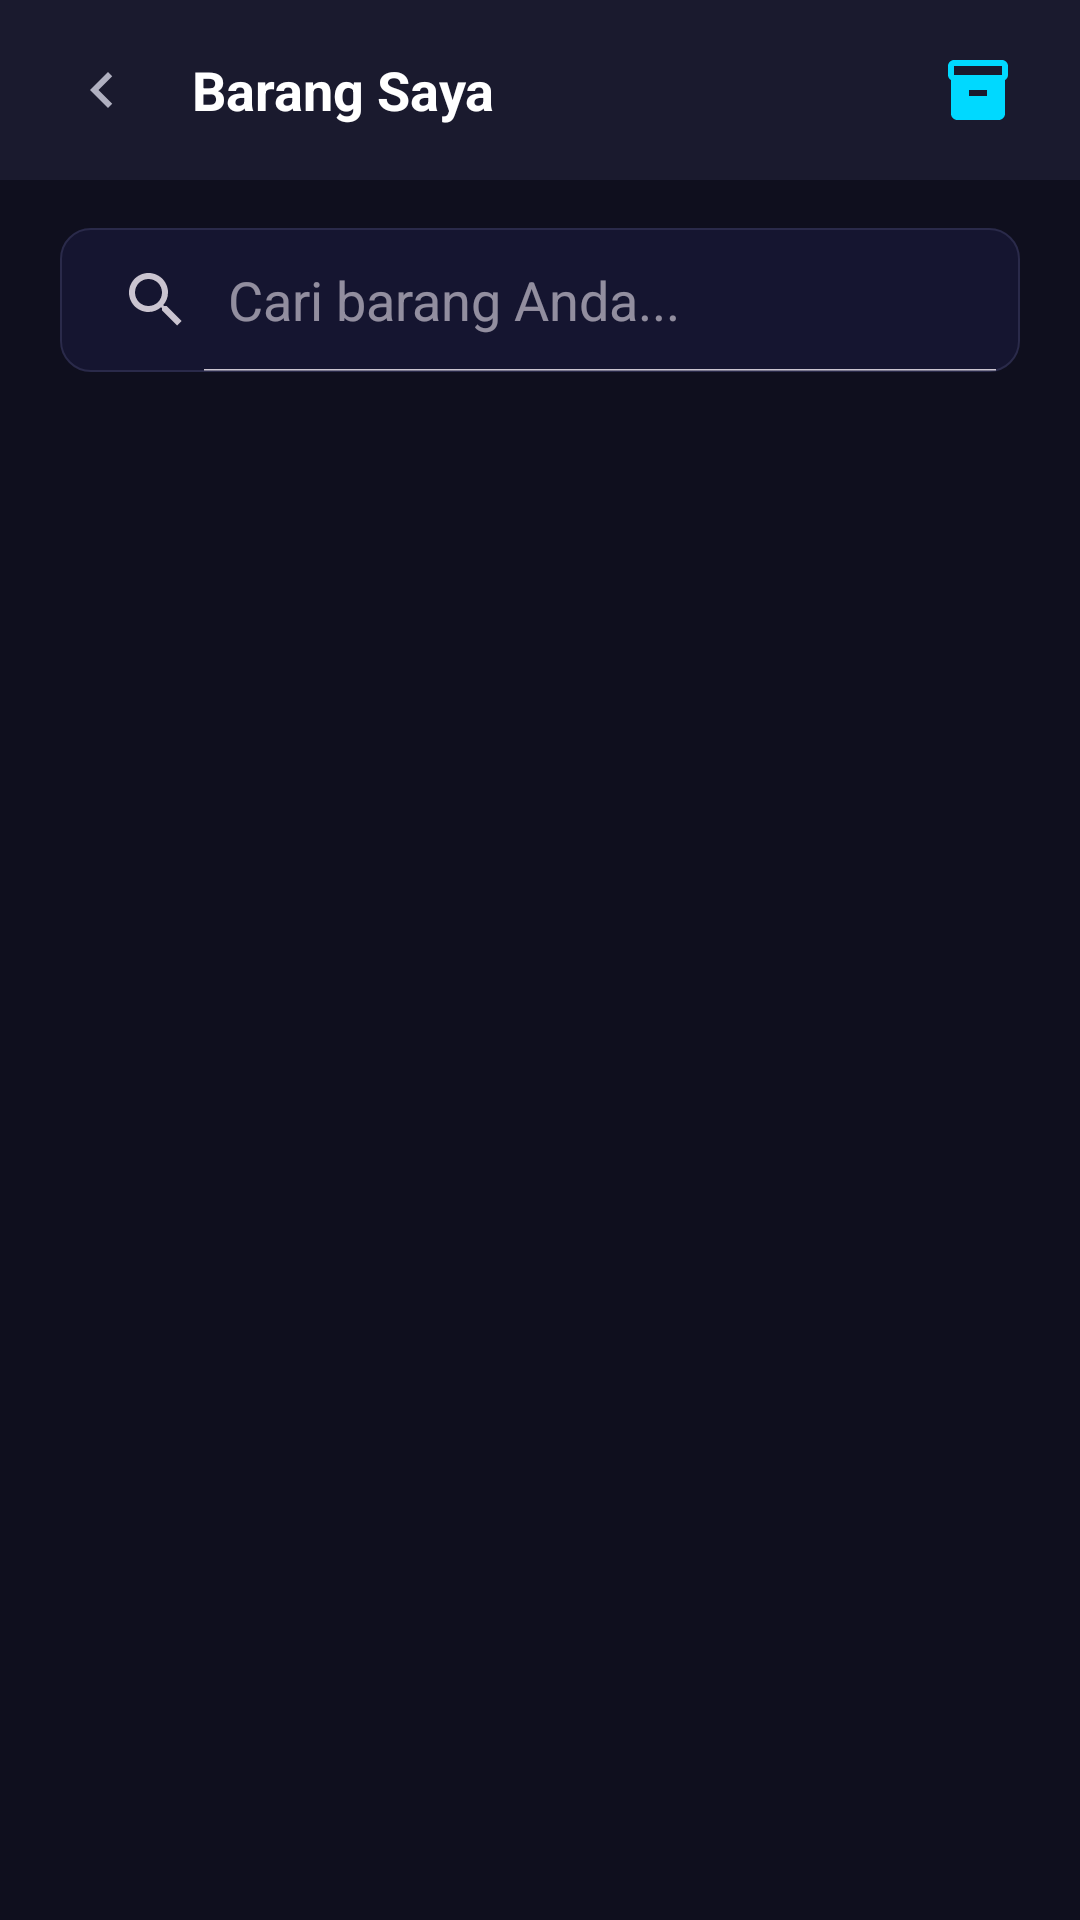

Icon bounding boxes for this 1080×1920 phone screenshot, format (x1, y1, x2, y2):
Kembali: (90, 72, 112, 108)
